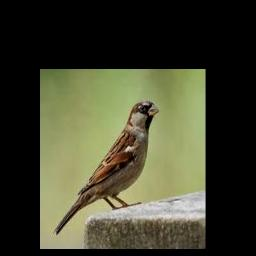Sparrow: (53, 101, 159, 235)
